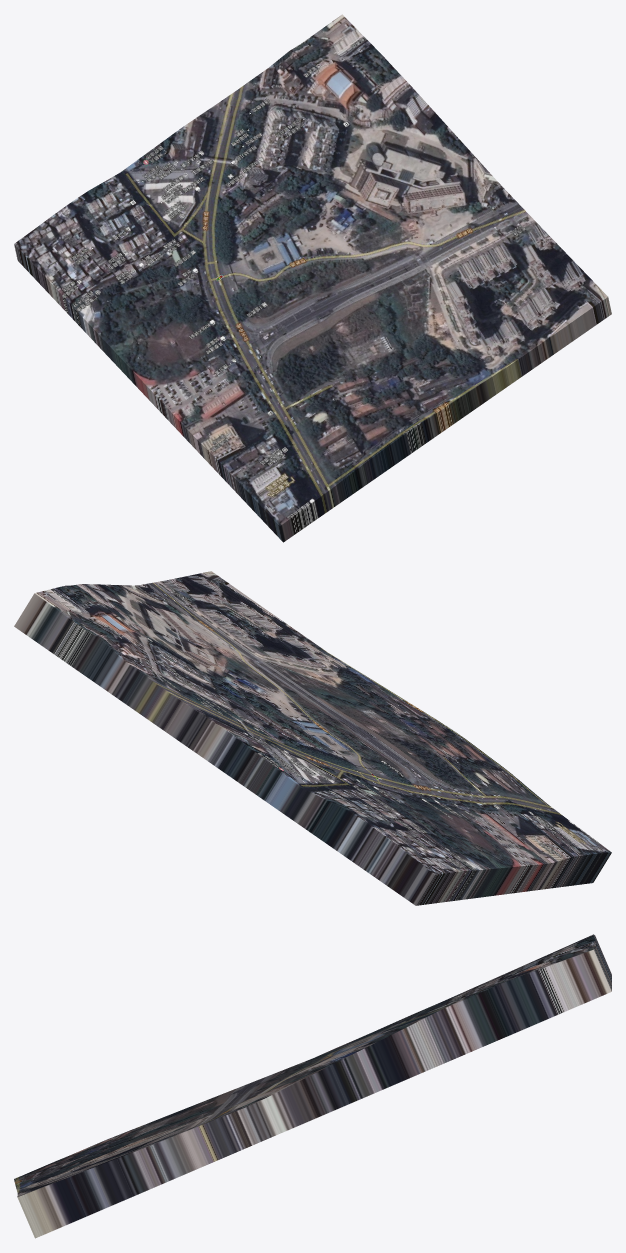
The picture shows the model from 3 angles, top to bottom: view 1: azimuth 30°, elevation 25°; view 2: azimuth 150°, elevation 25°; view 3: azimuth 270°, elevation 25°; orthographic projection. The views are drawn at different scales.
Parts seen in each view (by area): view 1: 0_0_23; view 2: 0_0_23; view 3: 0_0_23.
Boxes of the visible parts, bbox=[...] form: 0_0_23: bbox=[14, 14, 611, 542]; 0_0_23: bbox=[14, 571, 611, 905]; 0_0_23: bbox=[14, 934, 611, 1238].
Size of the model in its own units: 607 by 465 by 562.
Materials: 1 (1 with a texture image).
